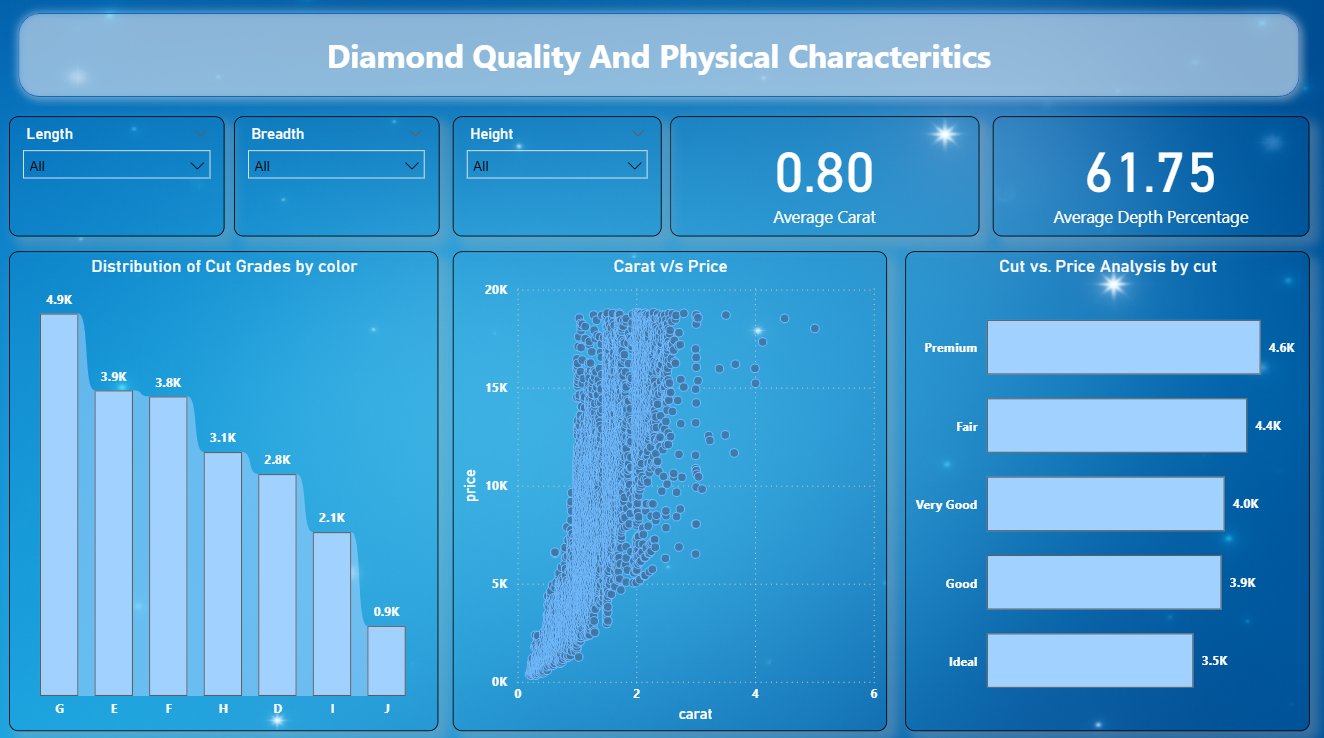

What the dashboard file says about the page in this screenshot:
{"tool":"powerbi","page":{"name":"Diamond Quality And Physical  Characteritics","canvas":[1280,720],"ordinal":0},"visuals":[{"type":"card","fields":{"Values":["Measures Table 1.Average Carat"]},"box":[648.1,117.4,298.4,116.2],"z":0},{"type":"columnChart","fields":{"Y":["Measures Table 1.Distribution of Cut Grades"],"Category":["diamonds.color"]},"box":[9.8,247,414.5,463.5],"z":1000},{"type":"card","fields":{"Values":["Measures Table 1.Average Depth Percentage"]},"box":[958.7,117.4,305.7,116.2],"z":2000},{"type":"scatterChart","title":"Carat v/s Price","fields":{"X":["diamonds.carat"],"Y":["diamonds.price"]},"box":[437.8,247,419.4,463.5],"z":3000},{"type":"barChart","fields":{"Y":["Measures Table 1.Cut vs. Price Analysis"],"Category":["diamonds.cut"]},"box":[874.3,247,390.1,463.5],"z":4000},{"type":"shape","box":[9.8,8.6,1254.6,99],"z":5000},{"type":"slicer","fields":{"Values":["diamonds.x"]},"box":[9.8,117.4,207.9,116.2],"z":6000},{"type":"slicer","fields":{"Values":["diamonds.y"]},"box":[226.2,117.4,198.1,116.2],"z":7000},{"type":"slicer","fields":{"Values":["diamonds.z"]},"box":[437.8,117.4,201.8,116.2],"z":8000}]}

Visuals, with their boxes in screenshot pixels (x1, y1, x2, y2), scaled from the page's 1280x720 canvas onto the 1324x738 screenshot:
card - Measures Table 1.Average Carat: box=[670, 120, 979, 239]
columnChart - Measures Table 1.Distribution of Cut Grades x diamonds.color: box=[10, 253, 439, 728]
card - Measures Table 1.Average Depth Percentage: box=[992, 120, 1308, 239]
"Carat v/s Price" scatterChart: box=[453, 253, 887, 728]
barChart - Measures Table 1.Cut vs. Price Analysis x diamonds.cut: box=[904, 253, 1308, 728]
shape: box=[10, 9, 1308, 110]
slicer - diamonds.x: box=[10, 120, 225, 239]
slicer - diamonds.y: box=[234, 120, 439, 239]
slicer - diamonds.z: box=[453, 120, 662, 239]
